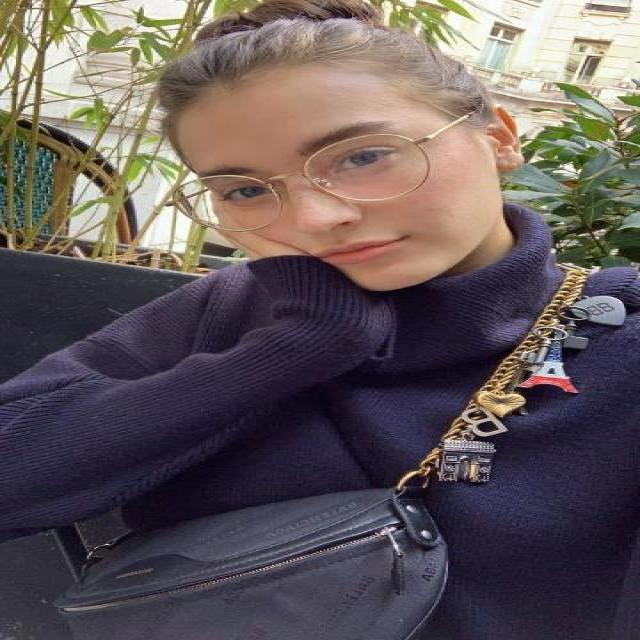glasses: (173, 132, 442, 232)
